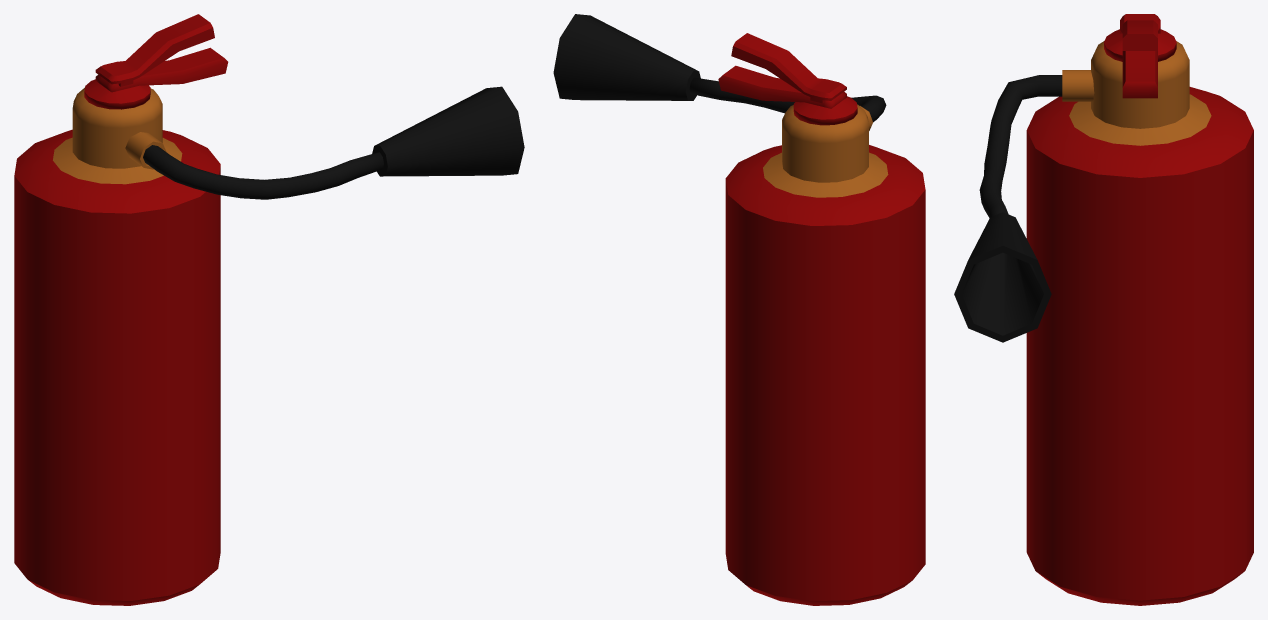
The model's file is fire extinguisher.obj.
3 renders of one model, left to right at view 1: azimuth 30°, elevation 25°; view 2: azimuth 150°, elevation 25°; view 3: azimuth 270°, elevation 25°, orthographic. The views are drawn at different scales.
Parts seen in each view (by area): view 1: Cylinder, Cylinder.005, Cylinder.001, Cylinder.004, Cylinder.002, Cylinder.003; view 2: Cylinder, Cylinder.005, Cylinder.001, Cylinder.002, Cylinder.003, Cylinder.004; view 3: Cylinder, Cylinder.001, Cylinder.005, Cylinder.004, Cylinder.002, Cylinder.003.
Part boxes in pixels (left/top/right/bottom): Cylinder: left=14, top=129, right=220, bottom=605; Cylinder.005: left=372, top=86, right=524, bottom=176; Cylinder.001: left=53, top=87, right=182, bottom=184; Cylinder.004: left=125, top=132, right=383, bottom=199; Cylinder.002: left=84, top=47, right=228, bottom=109; Cylinder.003: left=95, top=14, right=214, bottom=86; Cylinder: left=725, top=145, right=925, bottom=605; Cylinder.005: left=553, top=14, right=700, bottom=100; Cylinder.001: left=763, top=104, right=888, bottom=197; Cylinder.002: left=718, top=65, right=857, bottom=125; Cylinder.003: left=731, top=33, right=846, bottom=103; Cylinder.004: left=689, top=77, right=886, bottom=130; Cylinder: left=1026, top=87, right=1253, bottom=605; Cylinder.001: left=1069, top=41, right=1211, bottom=145; Cylinder.005: left=954, top=212, right=1051, bottom=342; Cylinder.004: left=979, top=70, right=1094, bottom=217; Cylinder.002: left=1104, top=29, right=1176, bottom=98; Cylinder.003: left=1120, top=14, right=1160, bottom=50.
Size of the model in its own units: 2.65 by 3.24 by 1.53.
